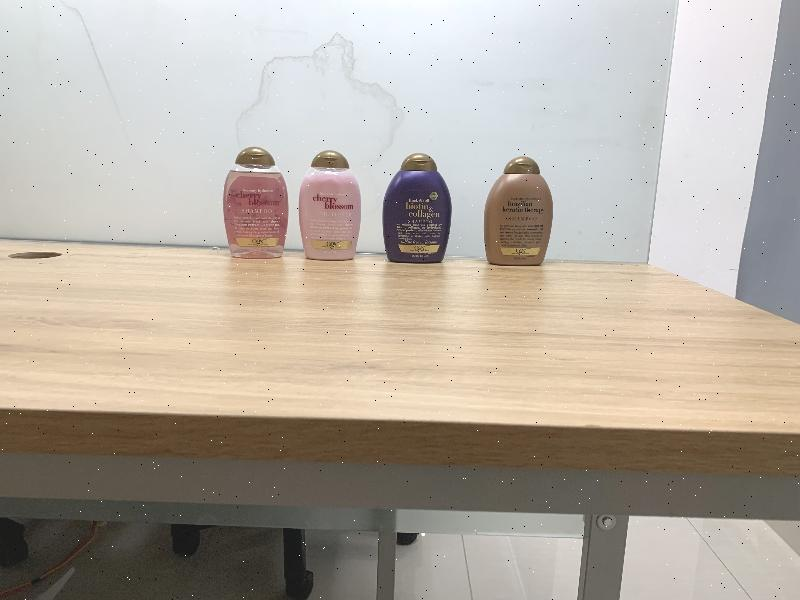BiotinCollagen_Shampoo: (382, 153, 452, 263)
BrazilianKeratinTherapy_Shampoo: (484, 156, 553, 265)
CherryBlossom_Conditioner: (298, 150, 362, 261)
CherryBlossom_Shampoo: (223, 146, 289, 259)
